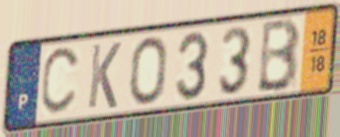3: (174, 29, 211, 103), (217, 24, 254, 97)
B: (254, 15, 302, 95)
C: (38, 44, 83, 118)
K: (85, 40, 123, 111)
O: (128, 34, 168, 107)
